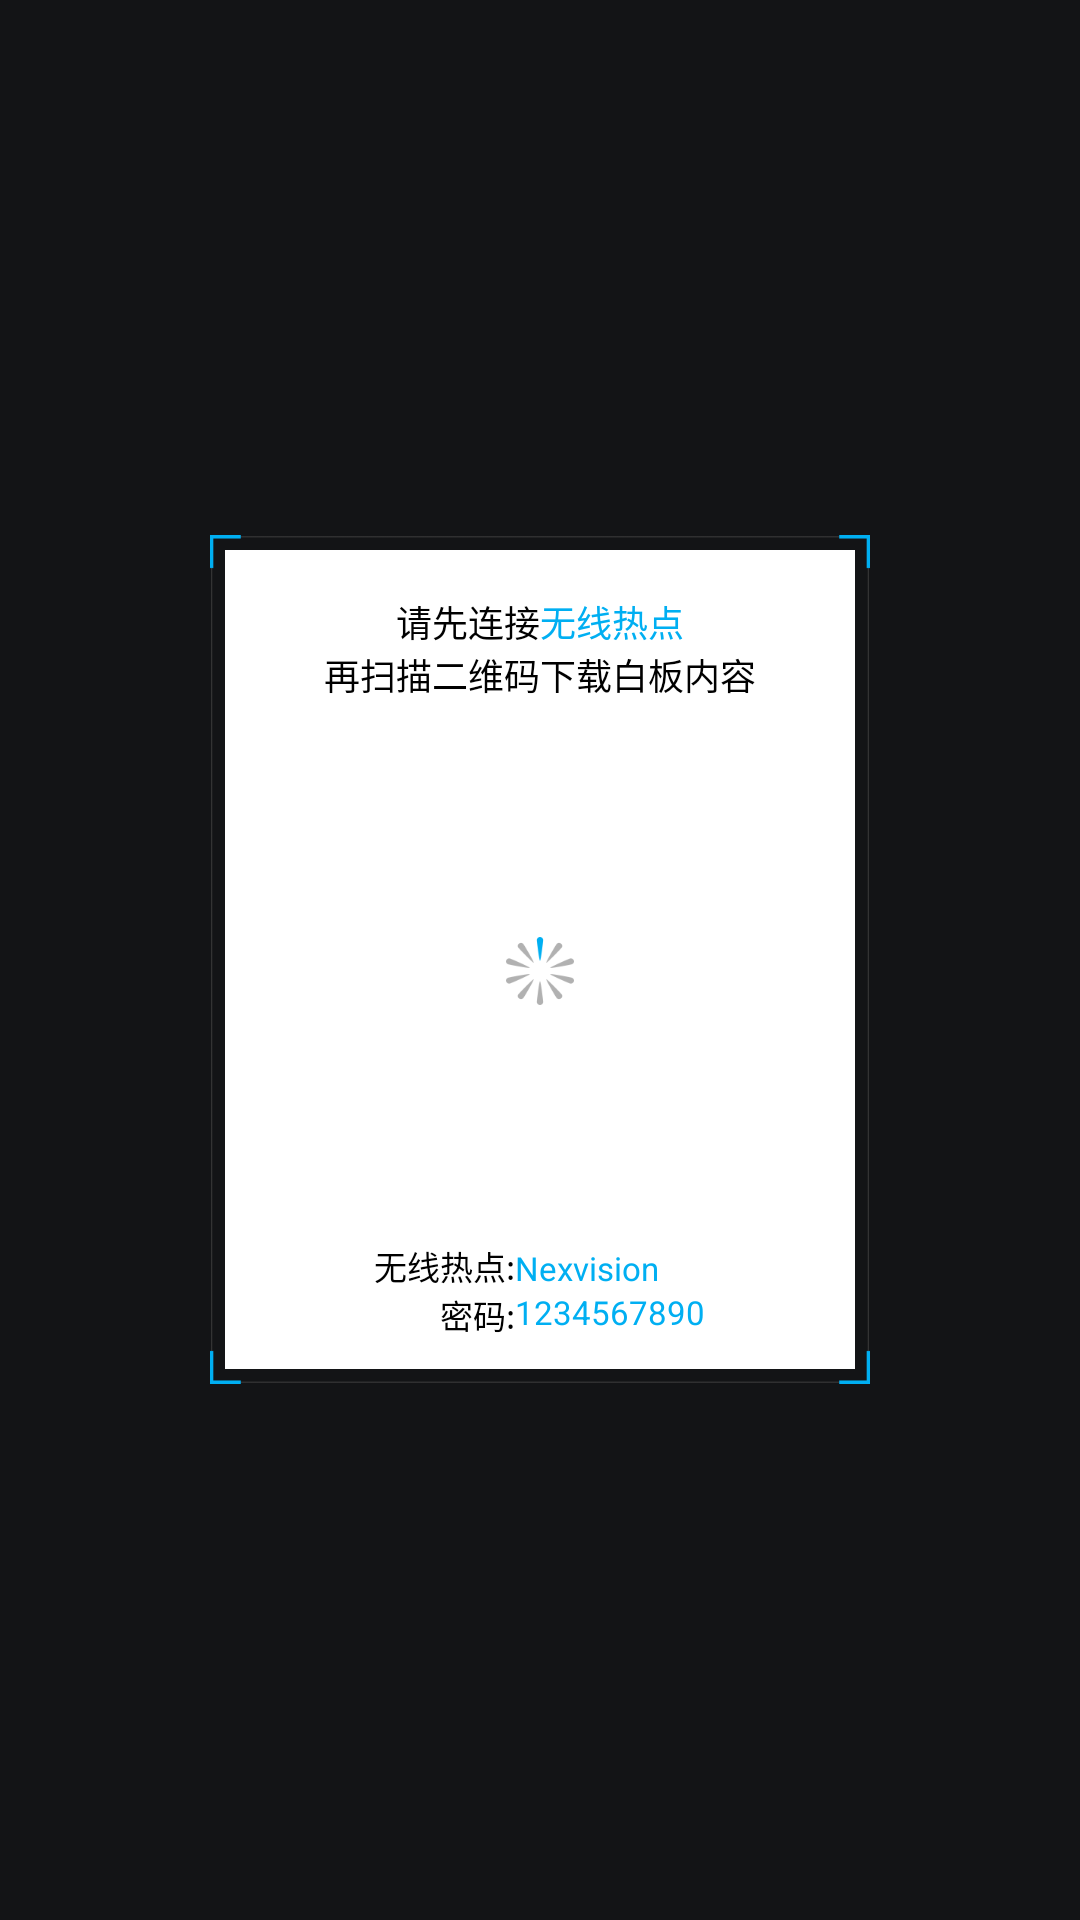

Point at icon controls on the screen. Image size 1080px x 1920px, points as point (x, y).
qr loading anim: point (540, 971)
